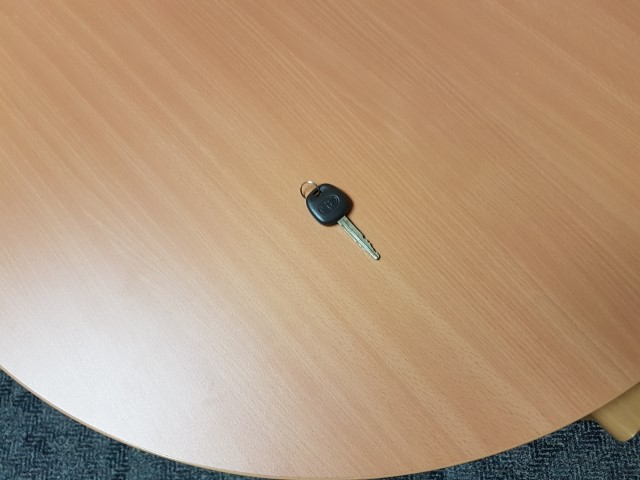key: (306, 181, 384, 262)
